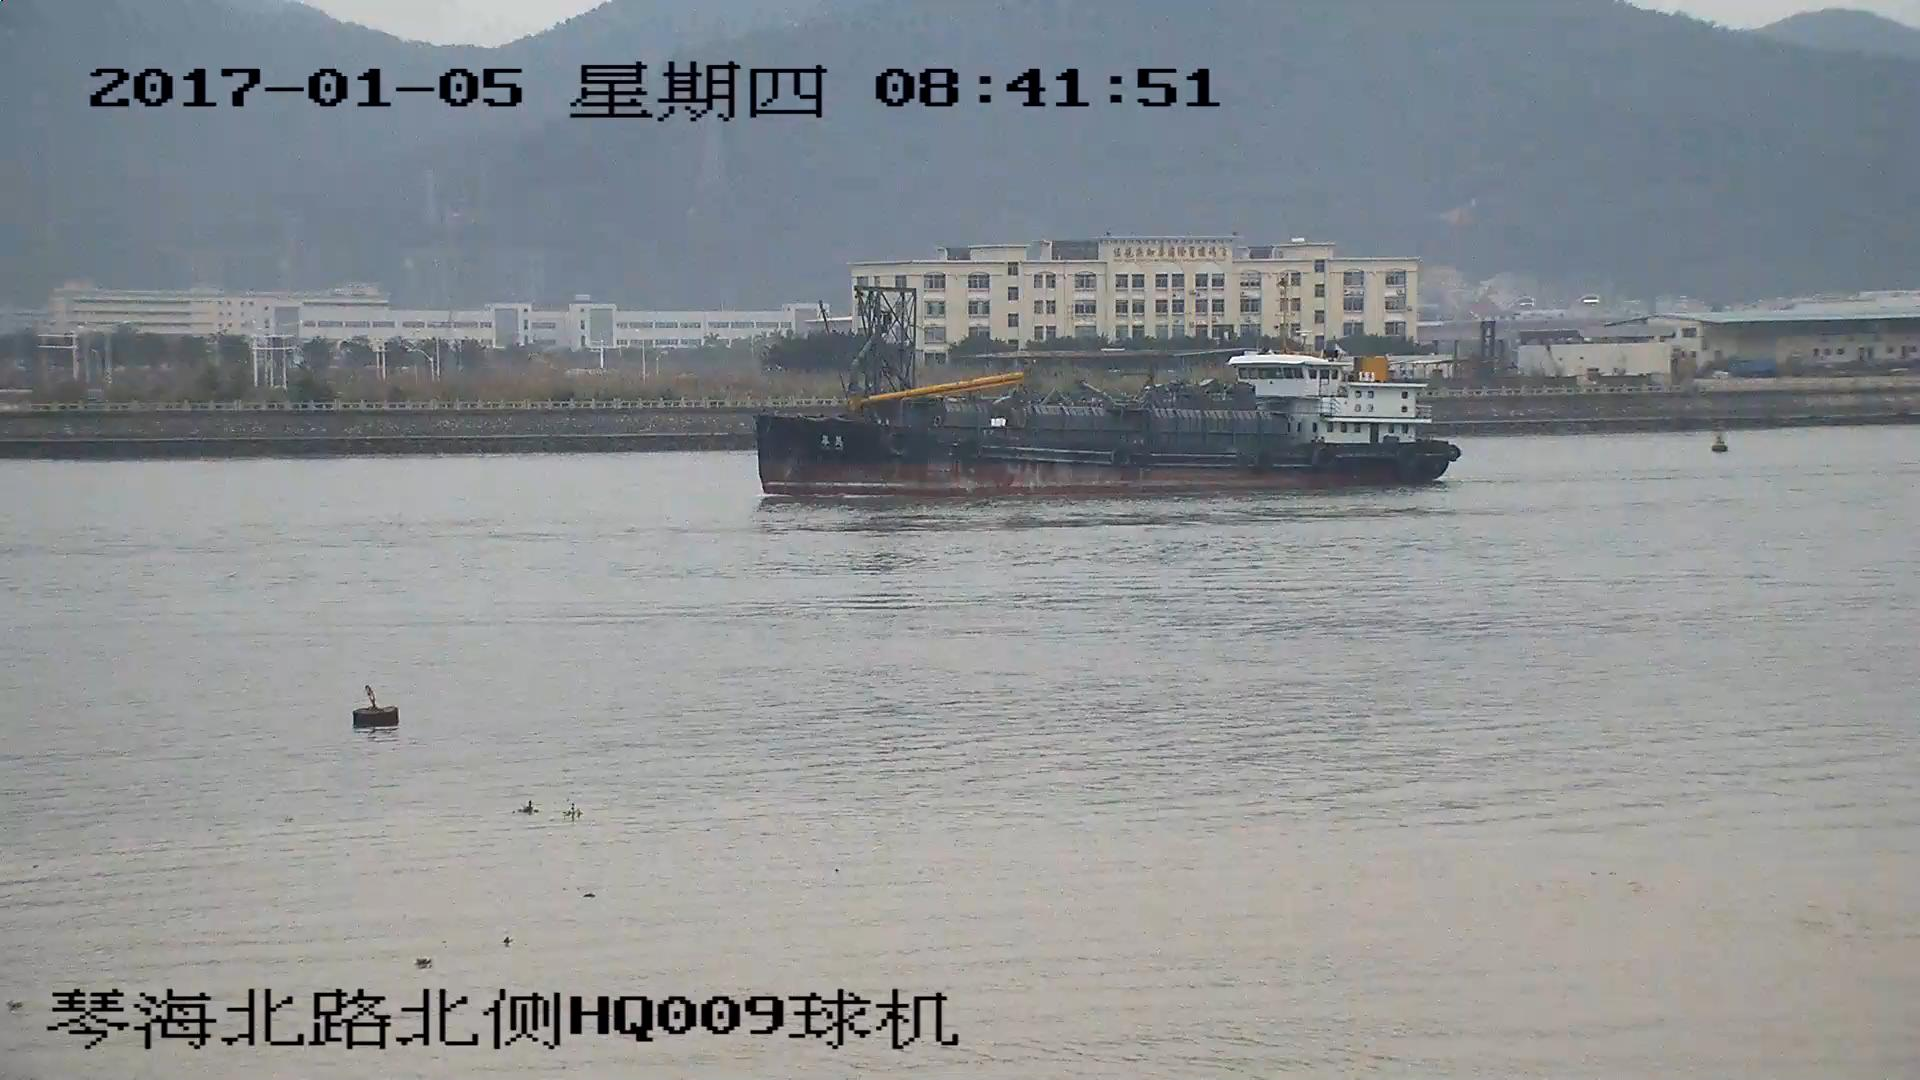bulk cargo carrier: (755, 292, 1455, 499)
